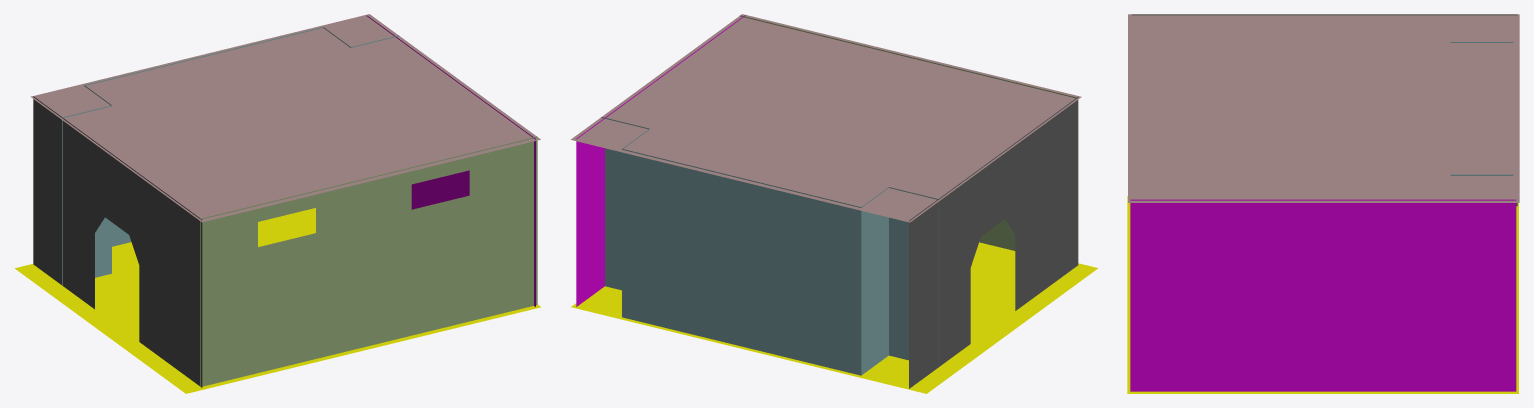
File: SideRoom03.fbx
3 views of the same model, side by side, from view 1: azimuth 30°, elevation 25°; view 2: azimuth 150°, elevation 25°; view 3: azimuth 270°, elevation 25° (orthographic). The views are drawn at different scales.
Visible parts, largest first — view 1: pPlane5, pPlane7, pPlane8, pPlane6, pPlane3, pPlane1; view 2: pPlane5, pPlane1, pPlane8, pPlane6, pPlane3, pPlane7; view 3: pPlane3, pPlane5, pPlane6, pPlane8.
Boxes of the visible parts, left/top/right/bottom form: pPlane5: left=30, top=14, right=540, bottom=222; pPlane7: left=200, top=136, right=537, bottom=386; pPlane8: left=33, top=96, right=202, bottom=387; pPlane6: left=15, top=208, right=540, bottom=393; pPlane3: left=366, top=15, right=535, bottom=306; pPlane1: left=62, top=27, right=399, bottom=285; pPlane5: left=570, top=14, right=1081, bottom=222; pPlane1: left=601, top=117, right=938, bottom=375; pPlane8: left=909, top=97, right=1078, bottom=388; pPlane6: left=571, top=242, right=1098, bottom=393; pPlane3: left=576, top=15, right=745, bottom=306; pPlane7: left=739, top=15, right=1077, bottom=265; pPlane3: left=1130, top=199, right=1516, bottom=391; pPlane5: left=1128, top=14, right=1519, bottom=202; pPlane6: left=1127, top=196, right=1518, bottom=393; pPlane8: left=1131, top=14, right=1517, bottom=206.
Bounding box in the file's own units: 369 × 167 × 309.
